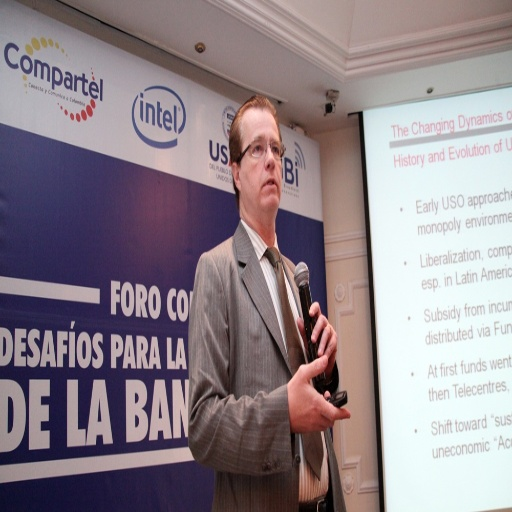hand: (287, 354, 349, 430), (297, 300, 337, 374)
